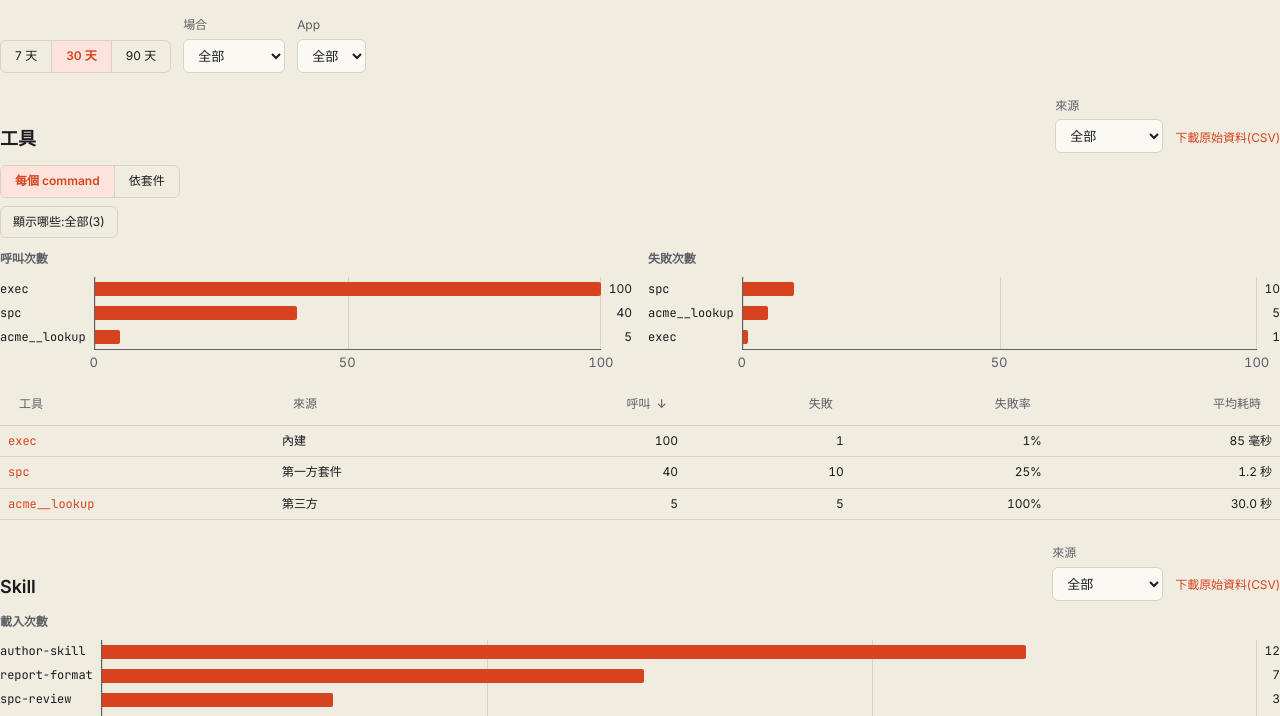
which tools, at which granularity (plan §9) › opens the tool modal's kind of picker: folds per package, built-ins first, each with a count
This screenshot has width=1280, height=716.
Click the button "顯示哪些:全部(3)". click: (59, 222)
box: left=0, top=206, right=118, bottom=238
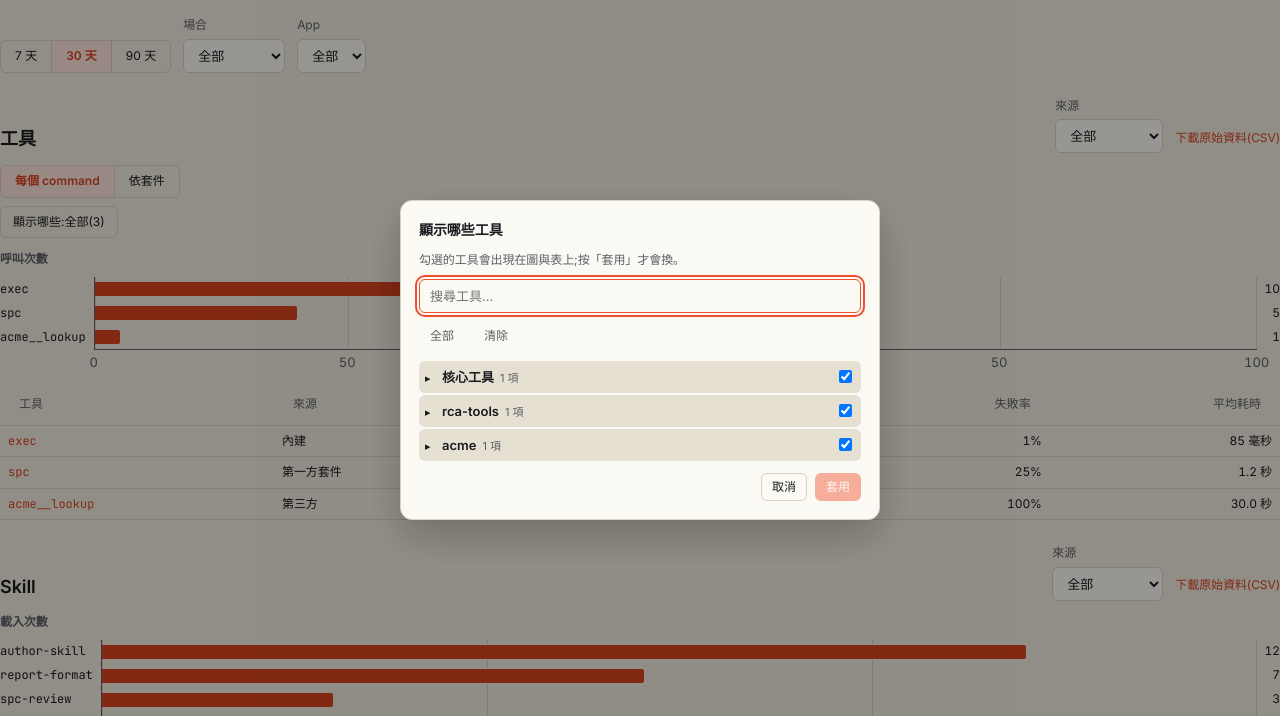
Result: the buttons read "▸核心工具1 項", "▸rca-tools1 項", "▸acme1 項", in this order
Click the button "▸ acme 1 項". click: (459, 445)
box: left=425, top=435, right=825, bottom=455
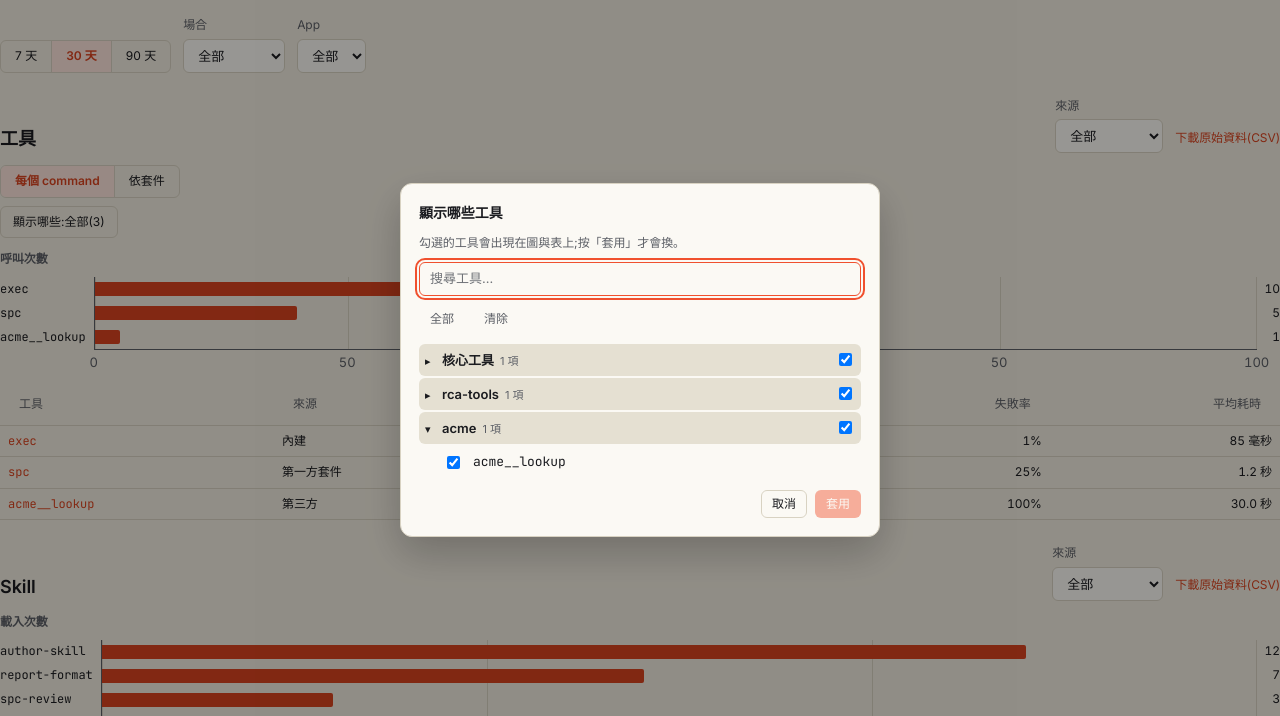
Result: the checkbox labelled "acme__lookup" is checked at left=447, top=456, right=460, bottom=468
